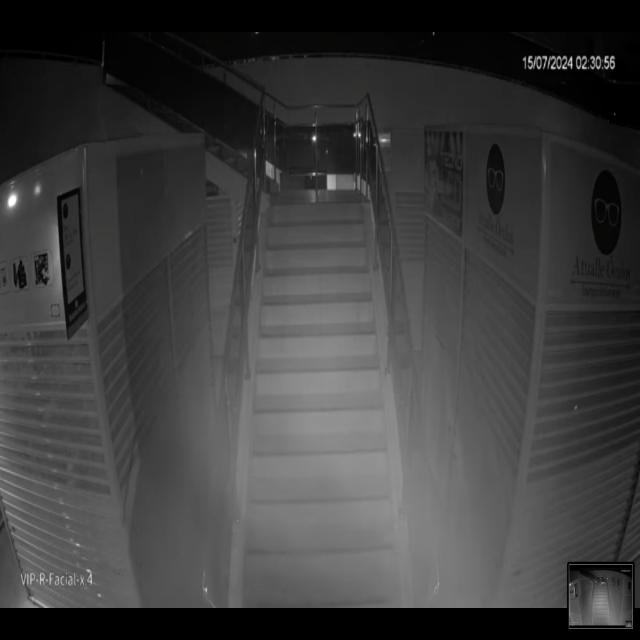Atencao: (165, 246, 548, 598)
